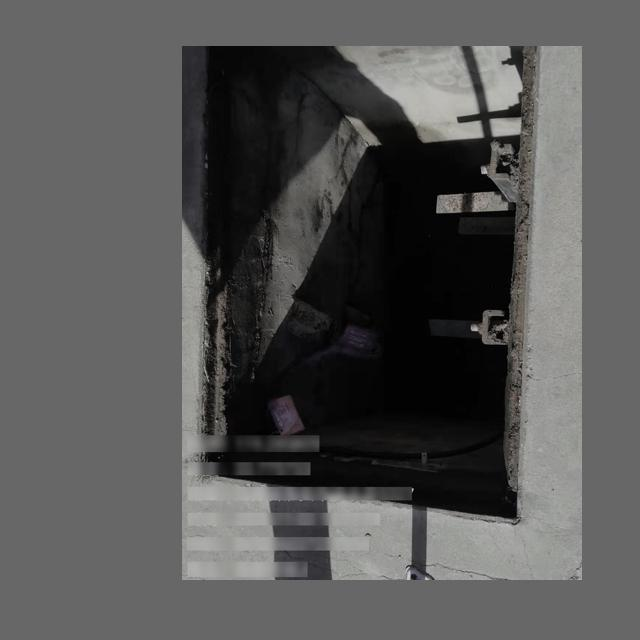lose: (193, 45, 537, 529)
